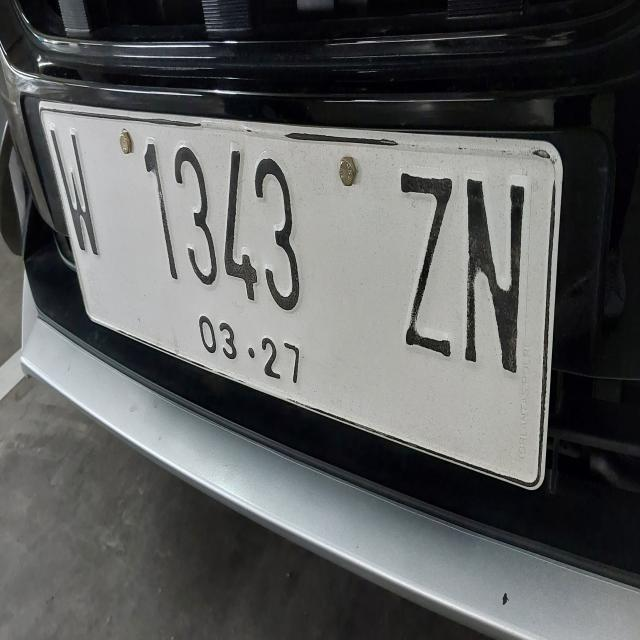1: (136, 124, 187, 306)
3: (242, 140, 314, 335), (168, 119, 218, 297)
4: (209, 124, 264, 314)
N: (453, 143, 538, 380)
W: (44, 101, 112, 268)
Z: (378, 140, 459, 374)
